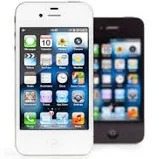iphone: (13, 1, 92, 156)
